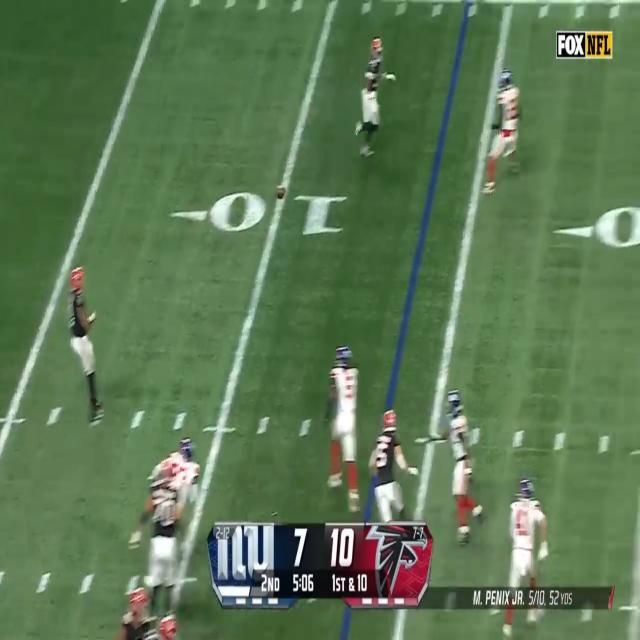Ball: (275, 184, 287, 199)
